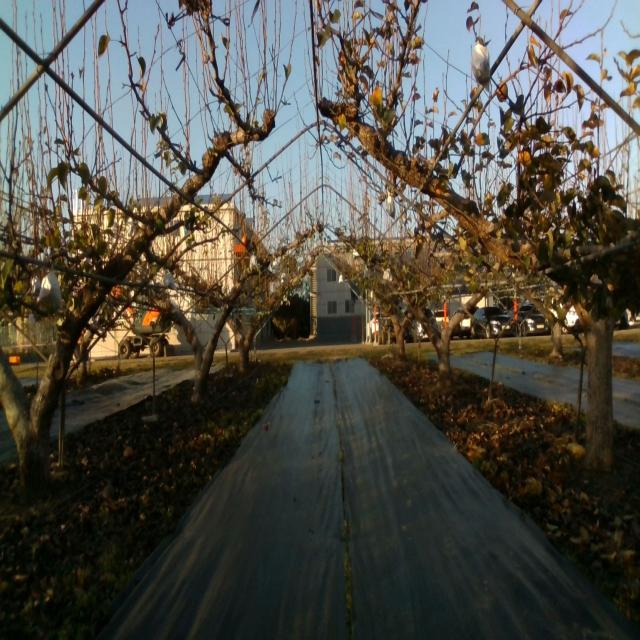pearbags: (469, 40, 492, 94), (37, 271, 63, 310), (164, 272, 176, 293)
